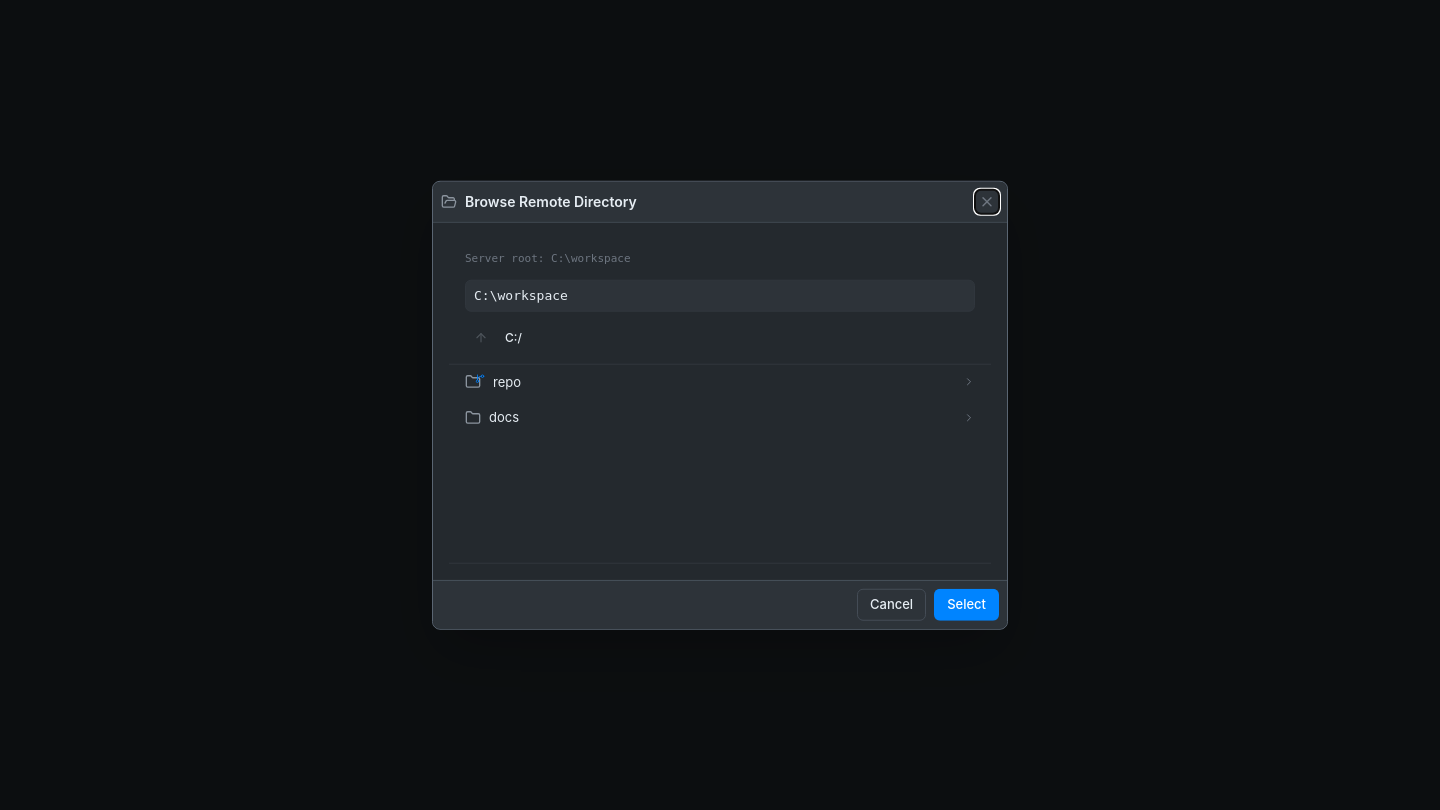
Test: RemoteFileBrowserDialog › navigates into a Windows directory on click
Click the button with test id "dir-entry-repo".
click(473, 382)  # box [449,364,991,400]
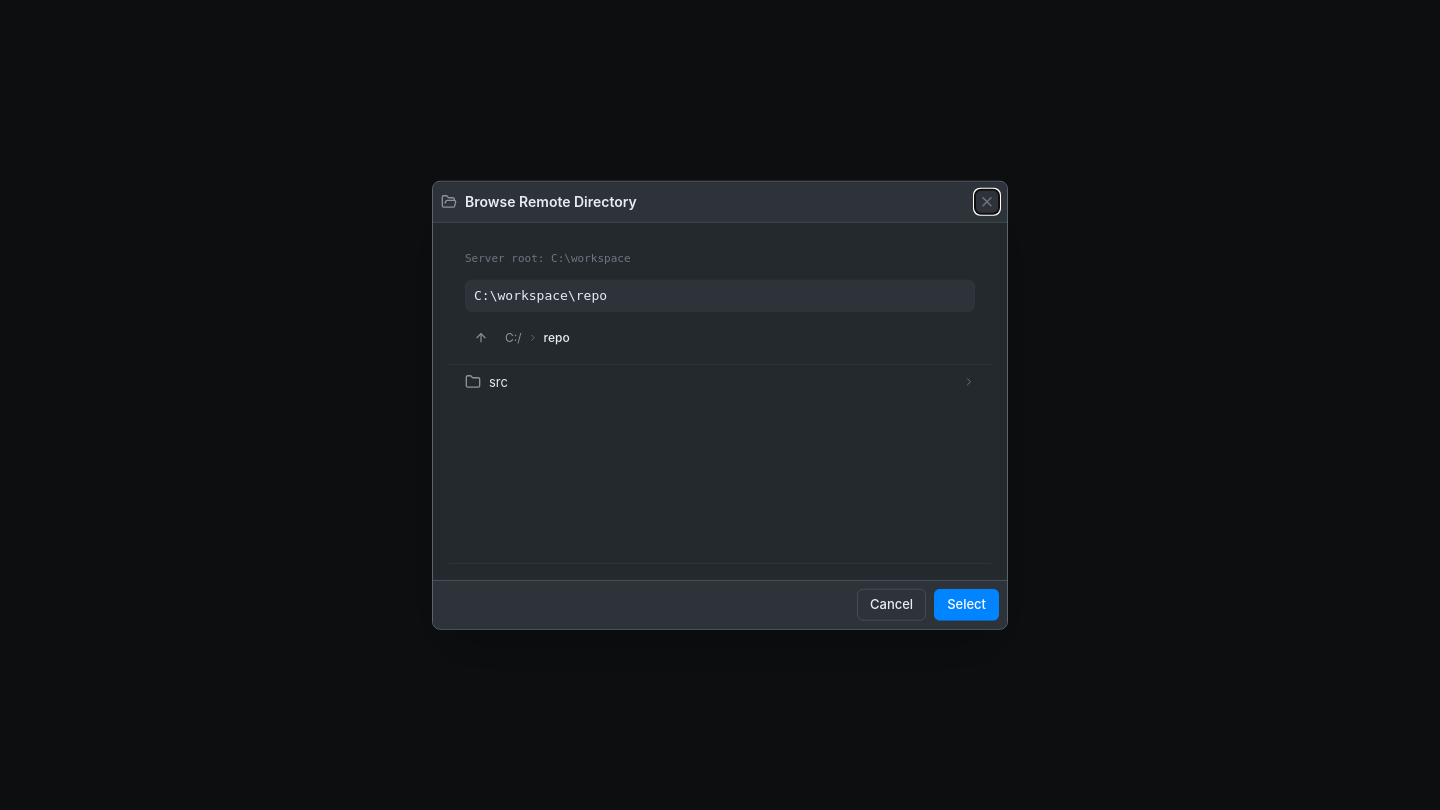
Expected: the text "src" is shown, [489,372,508,392]
